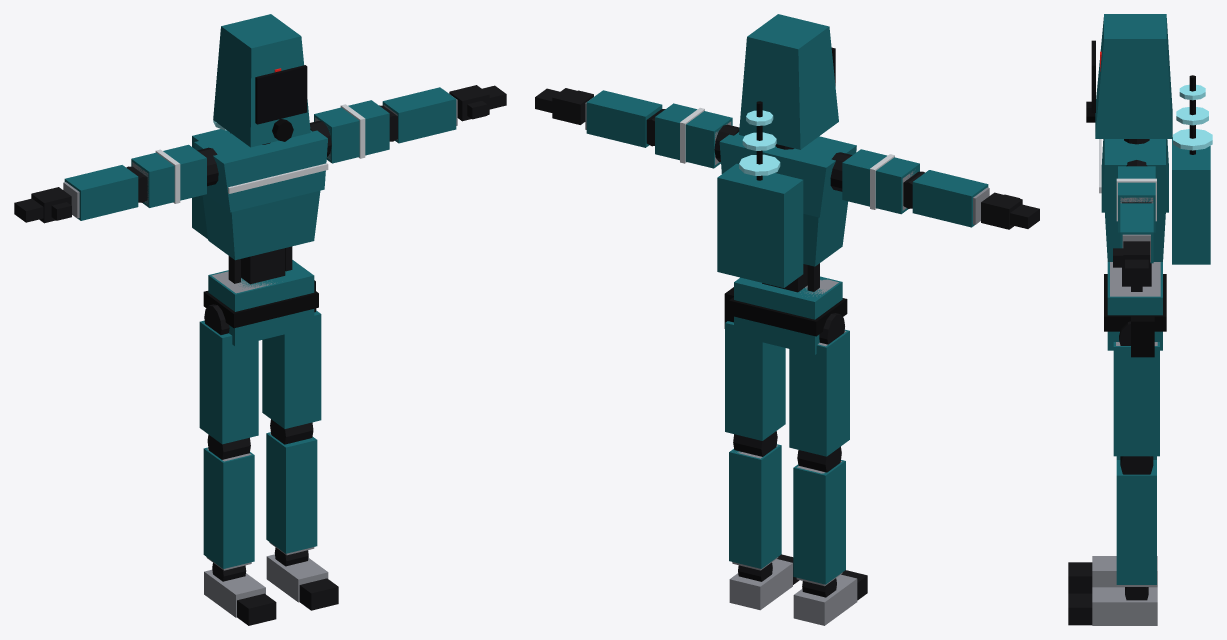
File: char_F2_scientist.obj
3 views of the same model, side by side, from view 1: azimuth 30°, elevation 25°; view 2: azimuth 150°, elevation 25°; view 3: azimuth 270°, elevation 25° (orthographic). The views are drawn at different scales.
Visible parts, largest first — view 1: Coverall_Science, ChassisJoints, Helmet_Hazmat, Chassis, Helmet_Hazmat_Visor, ToolBelt, Coverall_Science_Stripe, Pack_PurgeEmitter; view 2: Coverall_Science, Helmet_Hazmat, Pack_PurgeEmitter, ChassisJoints, Chassis, ToolBelt, Pack_PurgeEmitter_Field, Coverall_Science_Stripe; view 3: Coverall_Science, Helmet_Hazmat, ChassisJoints, Chassis, Pack_PurgeEmitter, ToolBelt, Pack_PurgeEmitter_Field, Coverall_Science_Stripe, Helmet_Hazmat_Visor, Pack_PurgeEmitter_Mast.
Part boxes in pixels (x1,y1,x2,y2): Coverall_Science: (64, 87, 456, 568); ChassisJoints: (14, 85, 506, 625); Helmet_Hazmat: (213, 14, 310, 147); Chassis: (63, 92, 457, 617); Helmet_Hazmat_Visor: (255, 65, 307, 124); ToolBelt: (203, 280, 318, 328); Coverall_Science_Stripe: (155, 104, 365, 203); Pack_PurgeEmitter: (192, 129, 229, 238); Coverall_Science: (586, 90, 988, 584); Helmet_Hazmat: (739, 14, 838, 149); Pack_PurgeEmitter: (717, 163, 803, 287); ChassisJoints: (535, 88, 1039, 600); Chassis: (585, 95, 989, 625); ToolBelt: (724, 287, 847, 336); Pack_PurgeEmitter_Field: (739, 110, 780, 175); Coverall_Science_Stripe: (680, 107, 894, 209); Coverall_Science: (1101, 139, 1168, 584); Helmet_Hazmat: (1095, 14, 1172, 138); ChassisJoints: (1068, 139, 1153, 625); Chassis: (1092, 197, 1160, 625); Pack_PurgeEmitter: (1172, 137, 1210, 264); ToolBelt: (1104, 274, 1166, 357); Pack_PurgeEmitter_Field: (1173, 84, 1212, 150); Coverall_Science_Stripe: (1099, 139, 1156, 221); Helmet_Hazmat_Visor: (1091, 40, 1095, 112); Pack_PurgeEmitter_Mast: (1189, 75, 1195, 154).
Bounding box in the file's own units: 1.69 × 1.88 × 0.4264.
